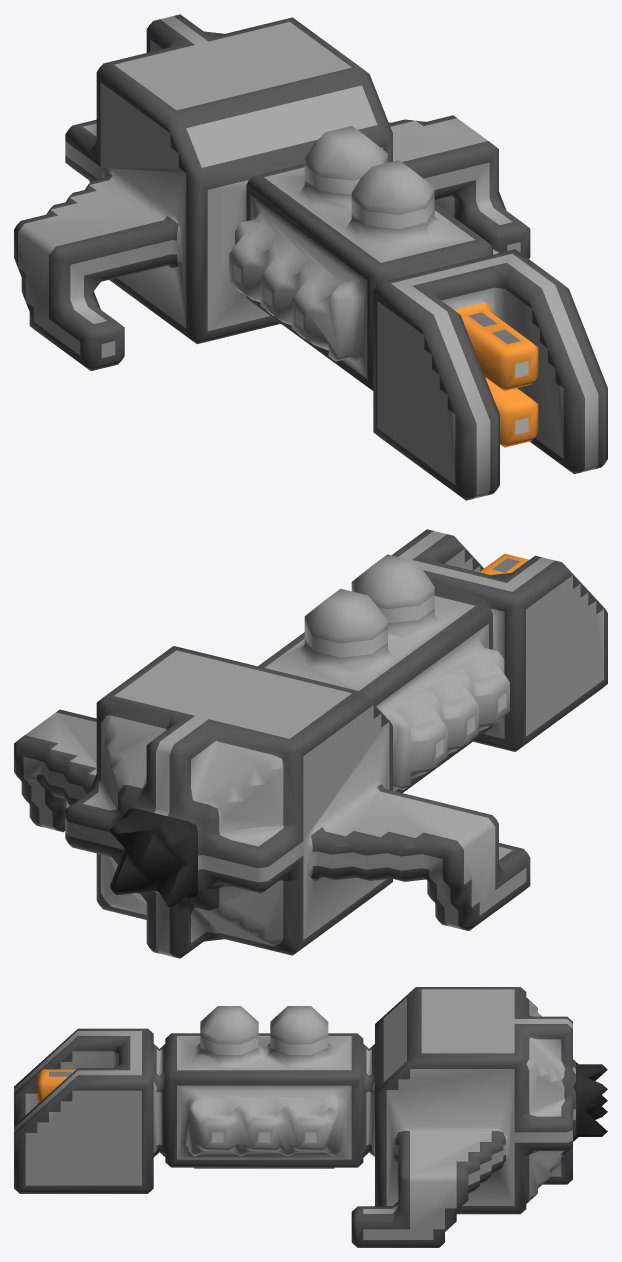
Rendered from ndrc-2-zwaard-class.obj.
The picture shows the model from 3 angles, top to bottom: view 1: azimuth 30°, elevation 25°; view 2: azimuth 150°, elevation 25°; view 3: azimuth 270°, elevation 25°; orthographic projection. The views are drawn at different scales.
Size of the model in its own units: 33 by 16 by 51.
Materials: 1 (1 with a texture image).
